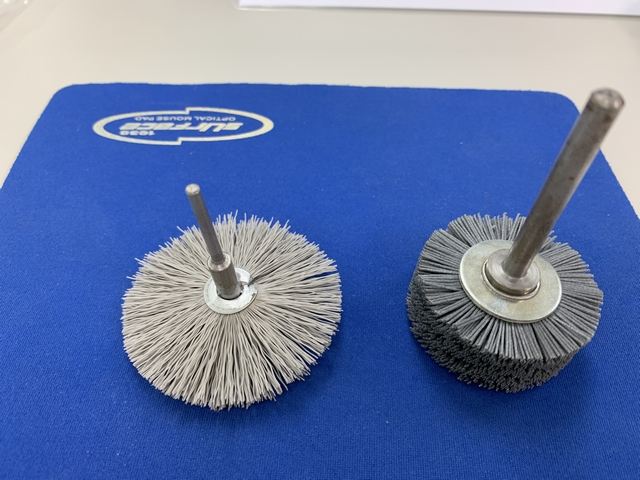TOOL: (118, 178, 345, 409), (167, 178, 346, 412), (151, 179, 337, 396), (115, 176, 345, 335)
Wheel Brush: (402, 78, 618, 397), (403, 81, 619, 372), (422, 88, 587, 374), (507, 80, 626, 403)
